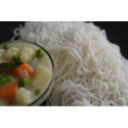idiyappam: (53, 22, 126, 105)
